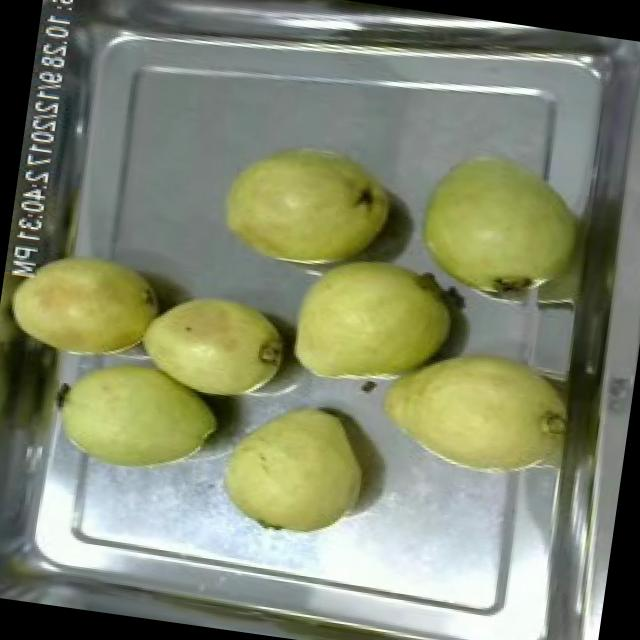Fruit: (402, 138, 590, 316), (366, 329, 570, 492), (274, 242, 466, 406), (208, 128, 403, 288), (39, 334, 232, 491), (205, 386, 378, 552), (0, 236, 173, 377), (127, 277, 298, 414)
